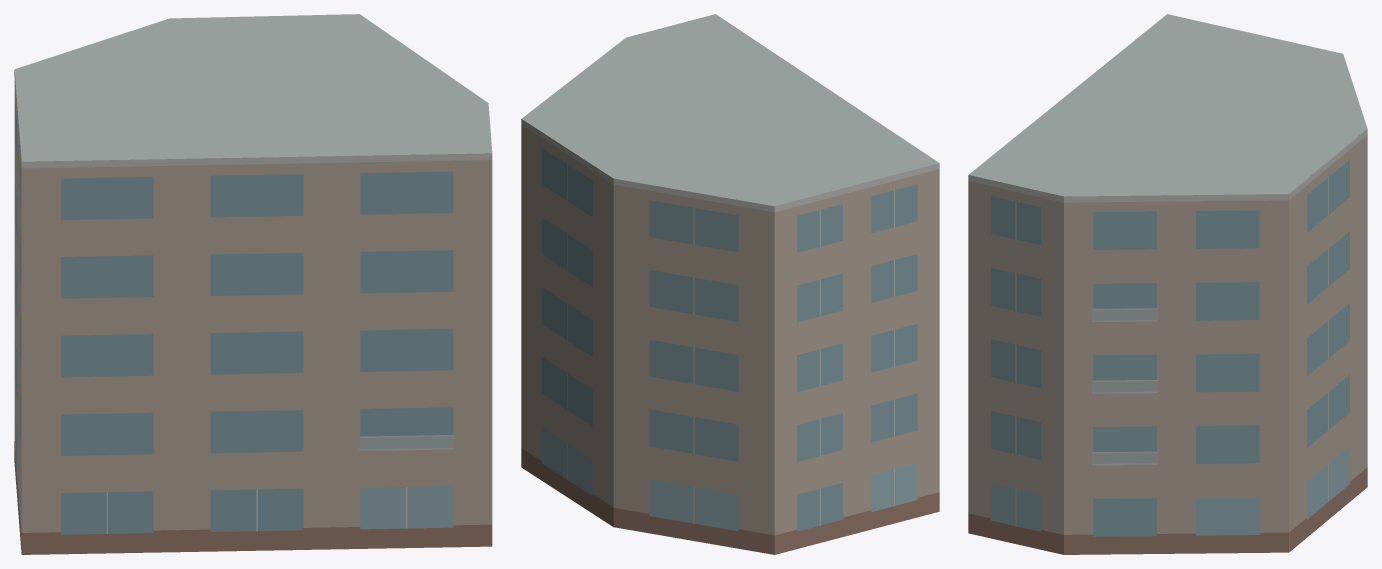
The model's file is survey-upis-32795811.glb.
3 renders of one model, left to right at view 1: azimuth 30°, elevation 25°; view 2: azimuth 150°, elevation 25°; view 3: azimuth 270°, elevation 25°, orthographic. The views are drawn at different scales.
Visible parts, largest first — view 1: survey-upis-32795811.tmp; view 2: survey-upis-32795811.tmp; view 3: survey-upis-32795811.tmp.
Boxes of the visible parts, left/top/right/bottom form: survey-upis-32795811.tmp: left=14, top=14, right=492, bottom=554; survey-upis-32795811.tmp: left=521, top=14, right=939, bottom=554; survey-upis-32795811.tmp: left=968, top=14, right=1367, bottom=554.
Bounding box in the file's own units: 15.52 × 14.2 × 14.34.
